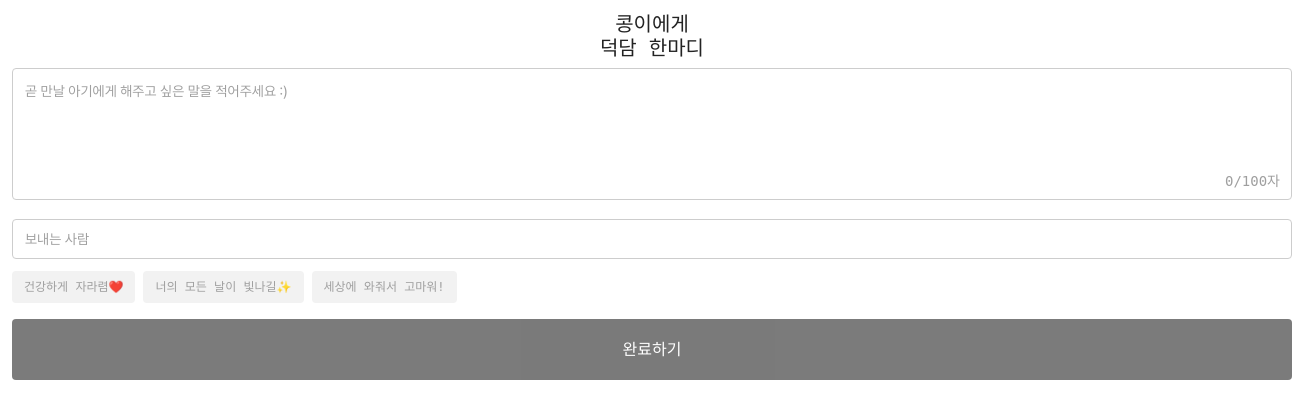
Test: CommentWriteView › 프리셋 칩 클릭 시 문구가 textarea에 삽입된다
Click the button "건강하게 자라렴❤️".
click(74, 287)  # box x1=12 y1=271 x2=136 y2=303
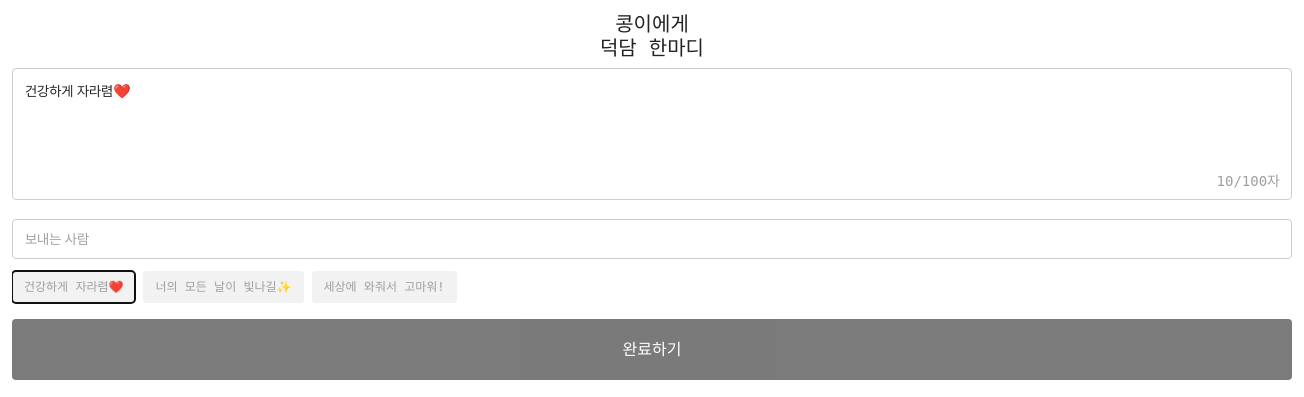
Now the text box with placeholder "곧 만날 아기에게 해주고 싶은 말을 적어주세요 :)" holds "건강하게 자라렴❤️", box x1=12 y1=68 x2=1292 y2=200
